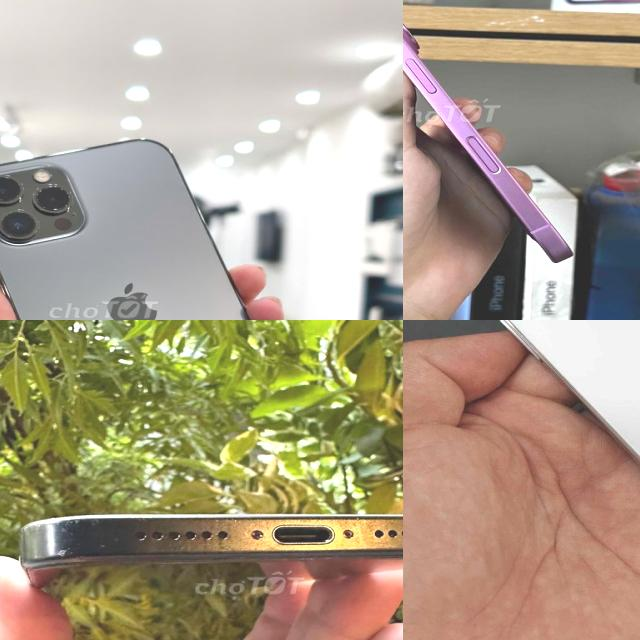gen_12_13: (0, 134, 309, 320)
gen_14: (407, 320, 640, 600)
gen_16: (403, 0, 577, 263), (21, 515, 403, 582)
scratch: (8, 511, 142, 599), (218, 504, 256, 546), (384, 508, 400, 532), (347, 506, 361, 530), (176, 540, 192, 560)
